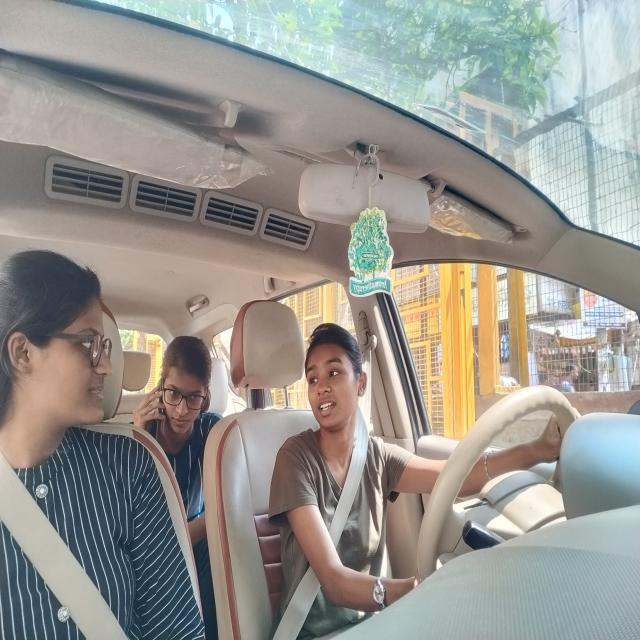LeftRight: (306, 332, 371, 438)
person: (8, 255, 112, 438), (164, 327, 213, 431)
talking: (309, 397, 342, 416)
